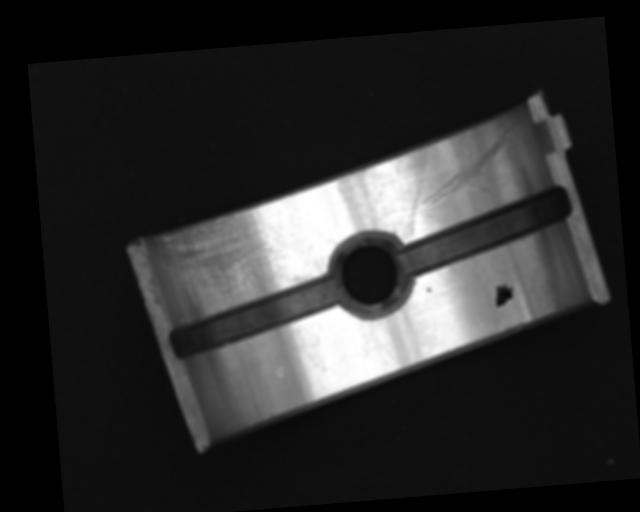blot: (494, 282, 515, 308)
bruise: (274, 364, 285, 378), (427, 287, 432, 293)
gap: (391, 187, 576, 278), (163, 276, 344, 360)
hole: (328, 228, 412, 319)
nick: (404, 118, 521, 213)
scratch: (149, 206, 314, 305)
